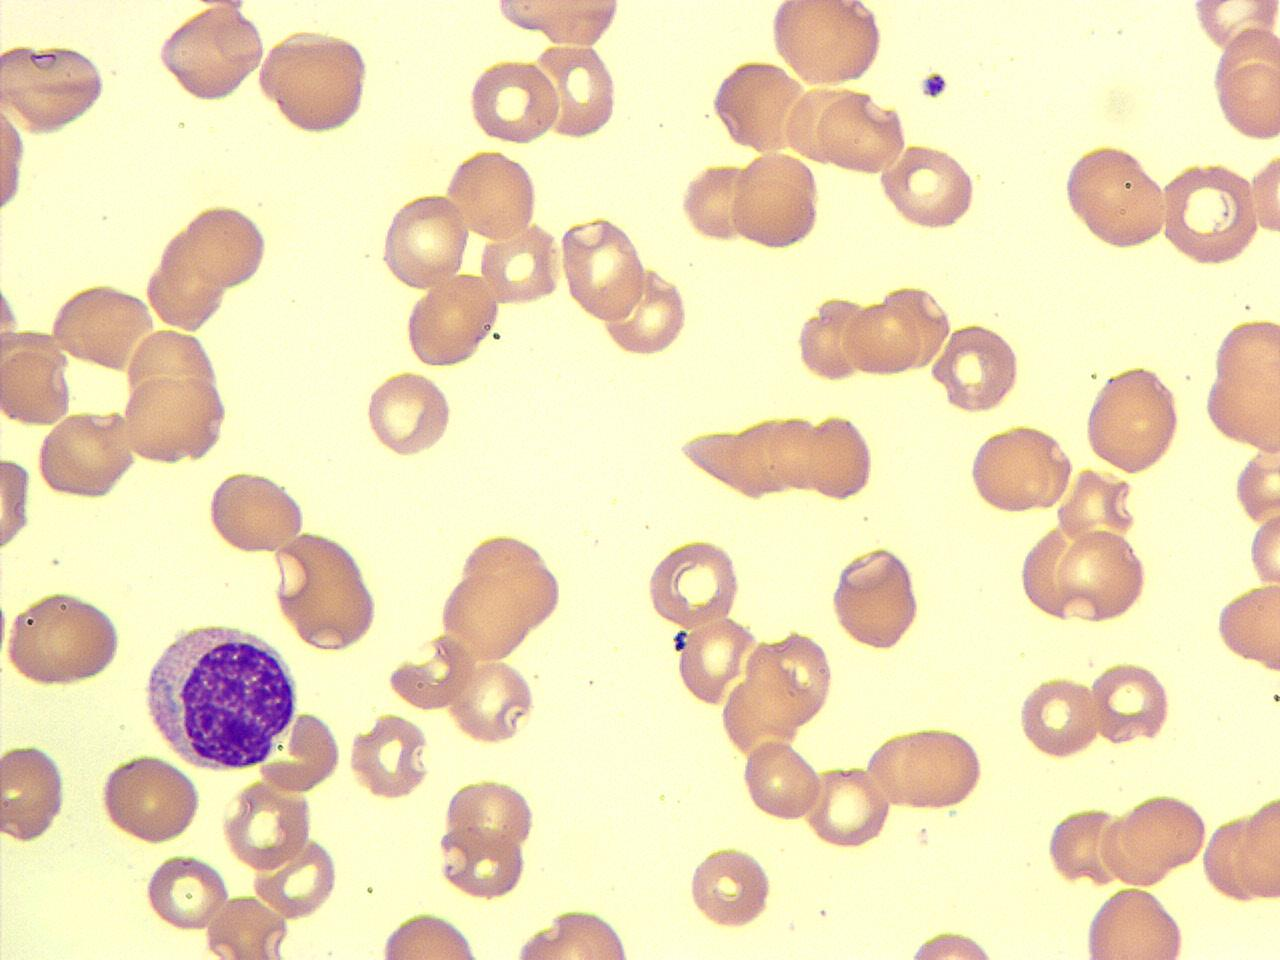Platelets: (918, 68, 950, 101), (672, 628, 689, 649)
RBC: (0, 0, 459, 362), (7, 752, 295, 960), (439, 532, 566, 662), (122, 336, 234, 469), (271, 526, 381, 652), (3, 585, 126, 690), (258, 26, 374, 137), (1061, 141, 1169, 252), (1082, 362, 1182, 478), (155, 3, 267, 106), (1200, 314, 1280, 456), (1160, 160, 1262, 267), (1, 39, 114, 134), (868, 723, 987, 813), (828, 541, 924, 652), (766, 1, 887, 89), (965, 422, 1076, 516), (96, 752, 204, 848), (166, 199, 274, 293), (402, 271, 500, 371), (727, 150, 822, 253), (557, 214, 648, 321), (378, 190, 471, 294), (33, 410, 138, 501), (1053, 528, 1149, 626), (642, 538, 744, 630), (444, 148, 542, 243), (879, 140, 979, 232), (207, 468, 308, 556), (466, 56, 562, 148), (221, 777, 314, 871), (534, 41, 620, 142), (748, 629, 834, 729), (602, 262, 688, 360), (803, 761, 894, 852), (365, 367, 454, 460), (814, 89, 908, 176), (1081, 883, 1187, 960), (935, 322, 1023, 414), (687, 840, 775, 932), (255, 708, 343, 798), (447, 656, 535, 746), (1014, 673, 1103, 760), (346, 710, 432, 800), (442, 774, 536, 856), (672, 424, 781, 494), (251, 836, 339, 922), (0, 740, 70, 846), (1123, 791, 1209, 877), (143, 850, 231, 934), (676, 613, 754, 707), (739, 737, 823, 824), (1089, 659, 1171, 746), (880, 280, 954, 374), (1096, 801, 1172, 892), (508, 905, 636, 959), (1043, 803, 1125, 887), (439, 822, 529, 898), (0, 338, 74, 429), (796, 294, 869, 386), (1017, 524, 1085, 622), (842, 297, 922, 380), (491, 0, 624, 49), (805, 412, 877, 502), (1212, 580, 1280, 674), (678, 161, 752, 246), (204, 893, 291, 960), (1214, 56, 1280, 144), (374, 908, 482, 958), (764, 414, 826, 496), (1234, 792, 1280, 902), (1187, 0, 1277, 54), (2, 75, 28, 236), (1232, 443, 1280, 528), (892, 926, 1013, 959), (1, 452, 33, 558), (1246, 146, 1280, 244), (1247, 508, 1279, 590)
WBC: (137, 614, 302, 774)
